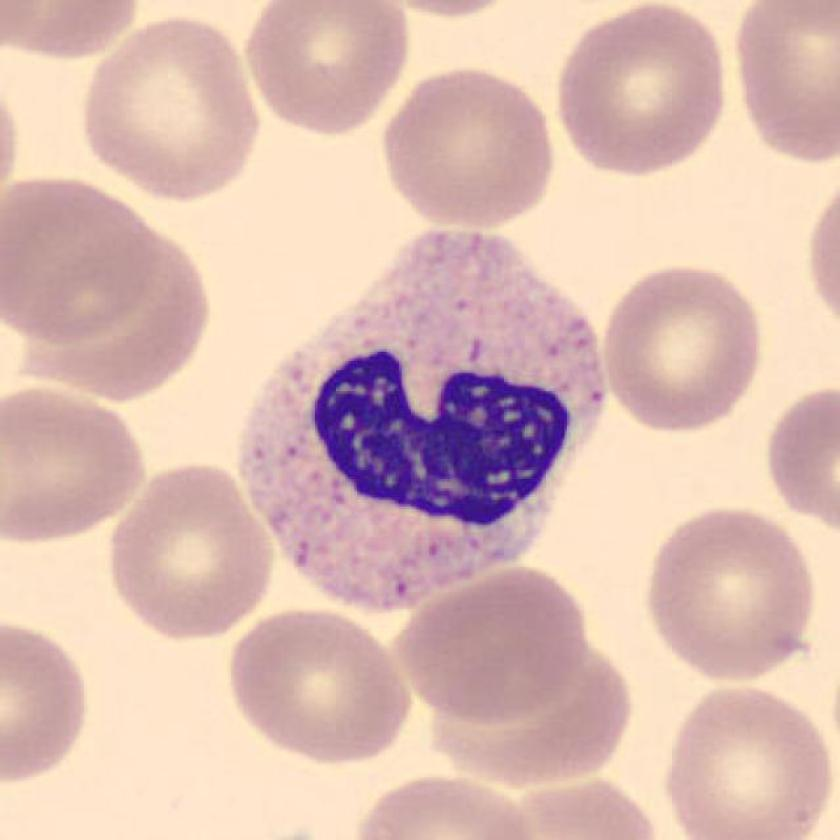neutrophil: (240, 231, 603, 611)
